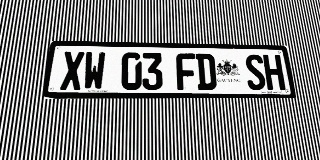0: (121, 52, 142, 90)
3: (142, 53, 163, 90)
D: (195, 53, 217, 90)
F: (176, 53, 197, 90)
H: (262, 55, 286, 90)
S: (244, 54, 267, 90)
W: (82, 52, 106, 90)
X: (60, 51, 84, 90)
